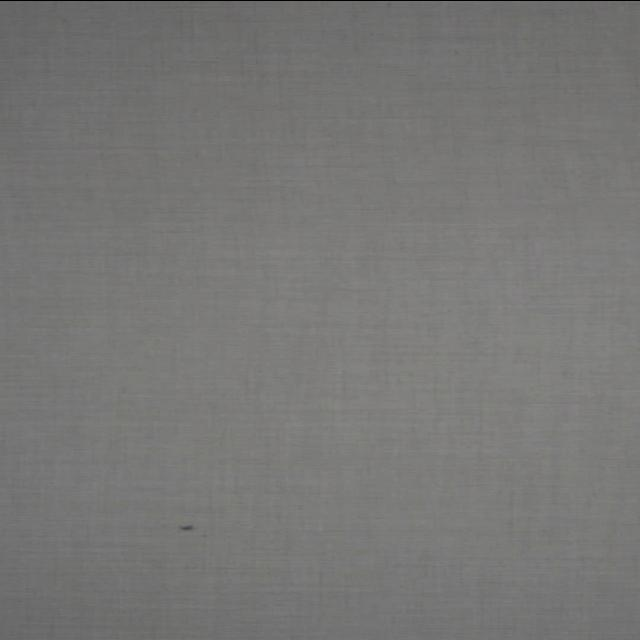dirty: (178, 524, 195, 530)
